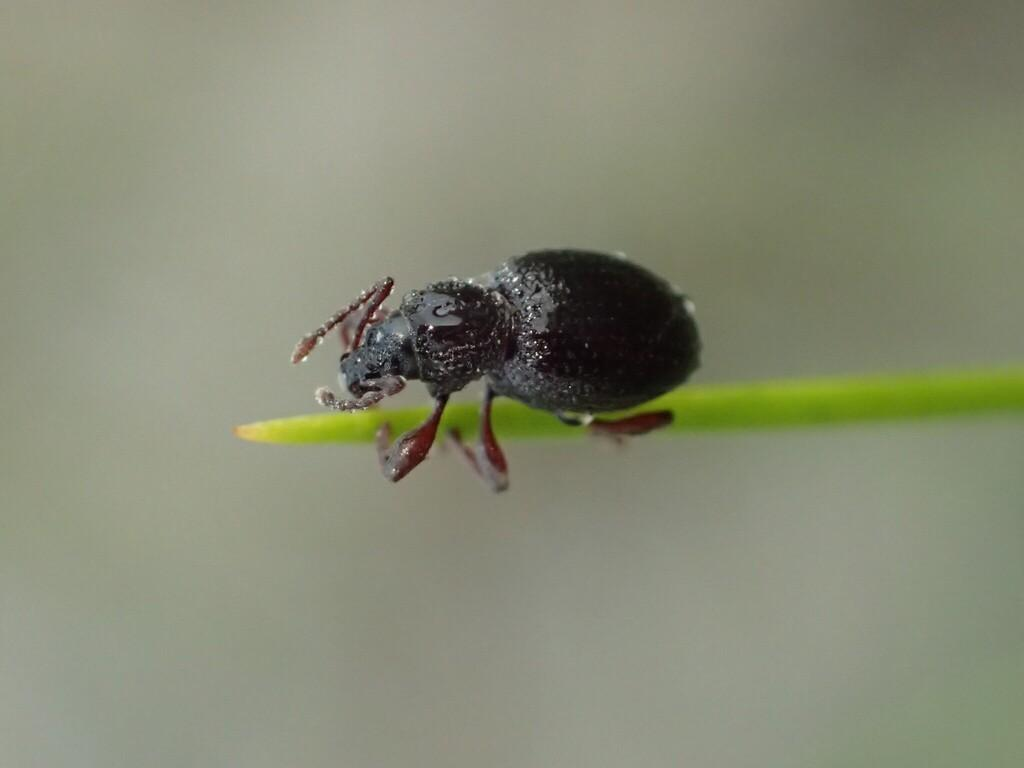weevils: (211, 168, 780, 554)
